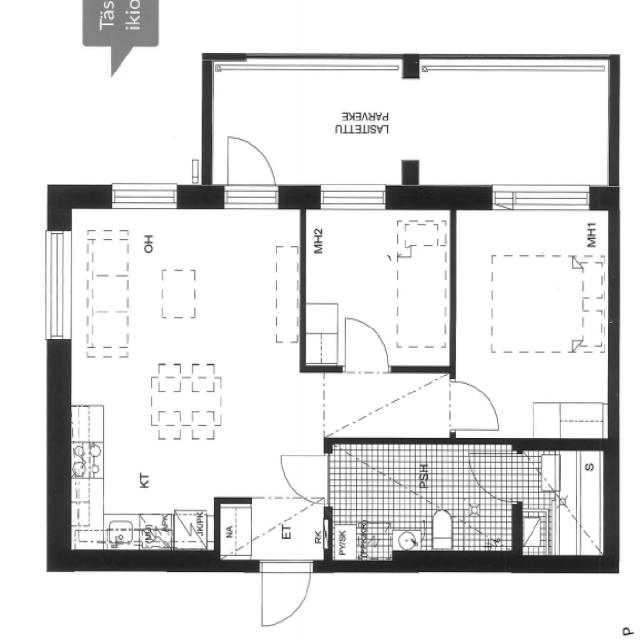door: (219, 130, 284, 208), (256, 558, 315, 627), (442, 373, 502, 437), (336, 311, 393, 378), (271, 447, 335, 505), (96, 24, 116, 42)
window: (38, 215, 78, 360), (484, 177, 601, 215), (102, 174, 186, 209), (313, 177, 394, 210), (216, 186, 286, 213)
zone: (64, 204, 245, 536), (461, 218, 612, 442), (305, 198, 457, 369), (328, 436, 525, 560), (419, 445, 612, 555), (88, 0, 155, 41)
